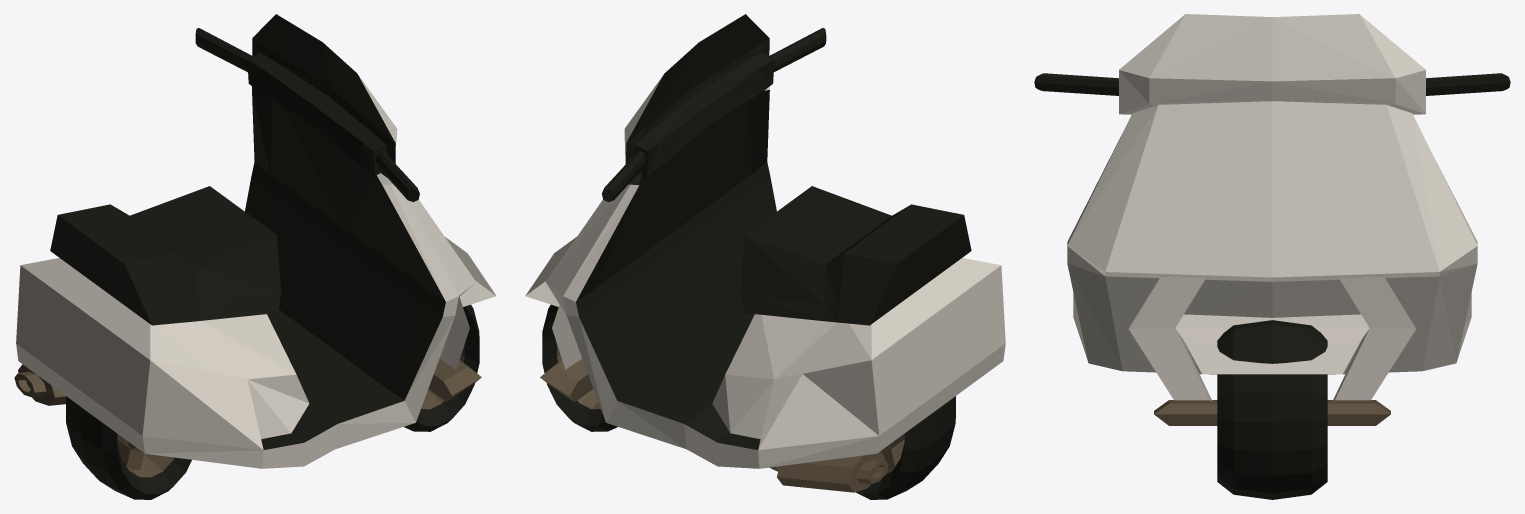
The model's file is scooter.glb.
3 renders of one model, left to right at view 1: azimuth 30°, elevation 25°; view 2: azimuth 150°, elevation 25°; view 3: azimuth 270°, elevation 25°, orthographic. The views are drawn at different scales.
Size of the model in its own units: 1 by 1 by 1.
